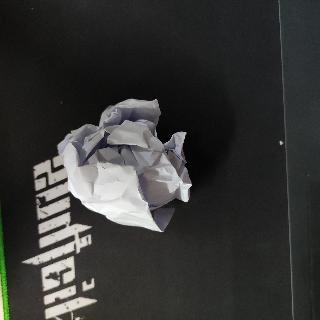8/可回收垃圾/纸: (56, 98, 192, 232)
